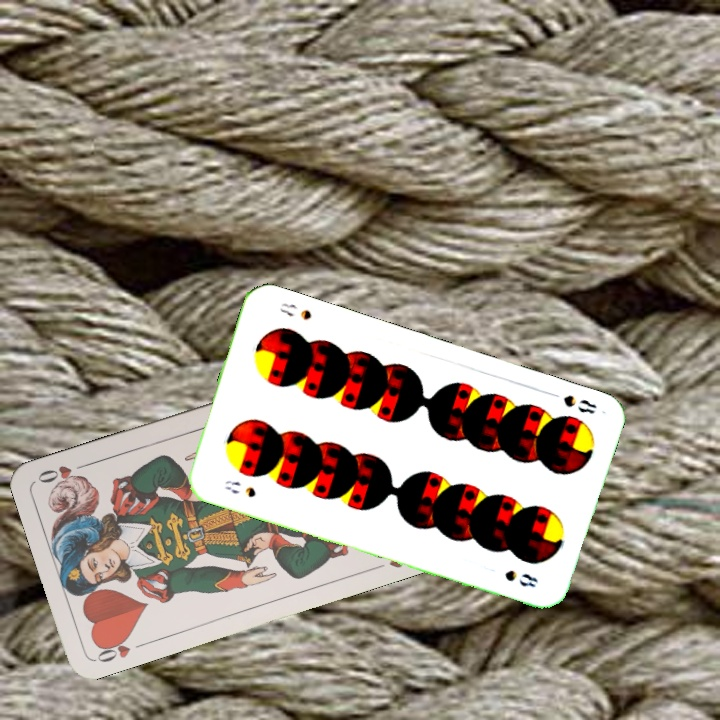HO: (92, 631, 150, 665)
S8: (544, 387, 599, 417), (220, 476, 258, 500)
